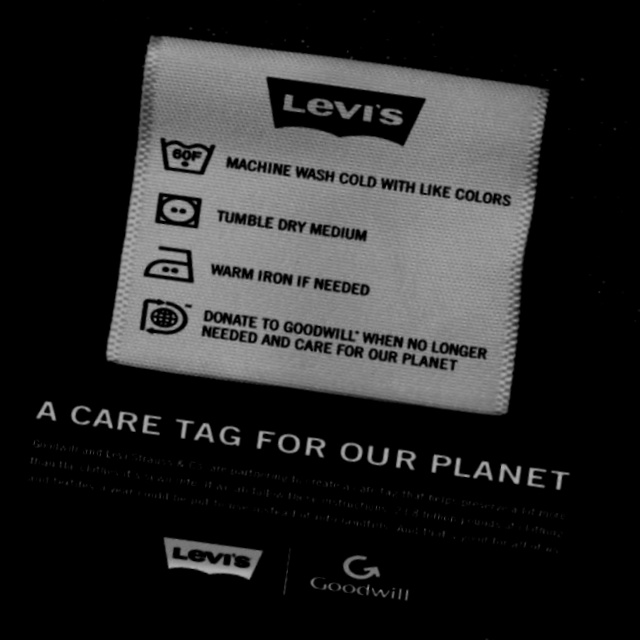30C: (141, 113, 233, 197)
iron_medium: (128, 224, 215, 304)
tumble_dry_medium: (138, 175, 219, 248)
